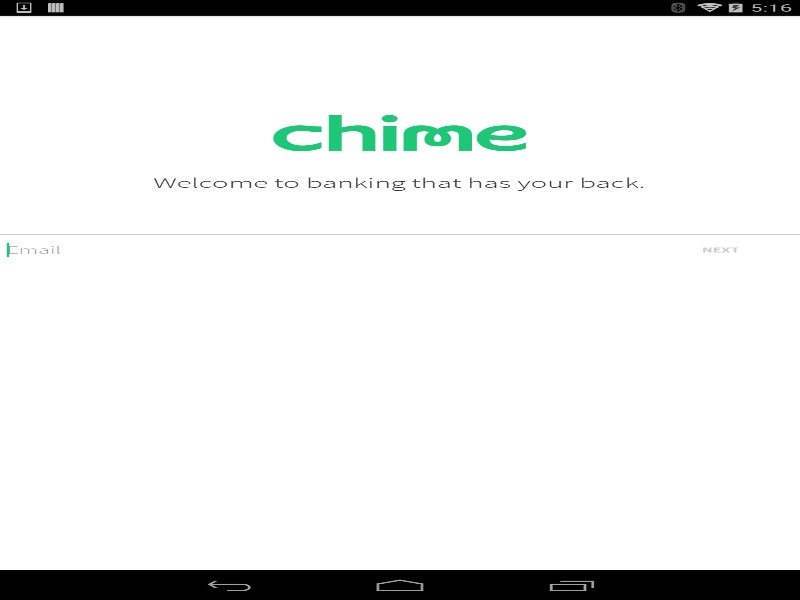Input: (6, 243, 640, 257)
